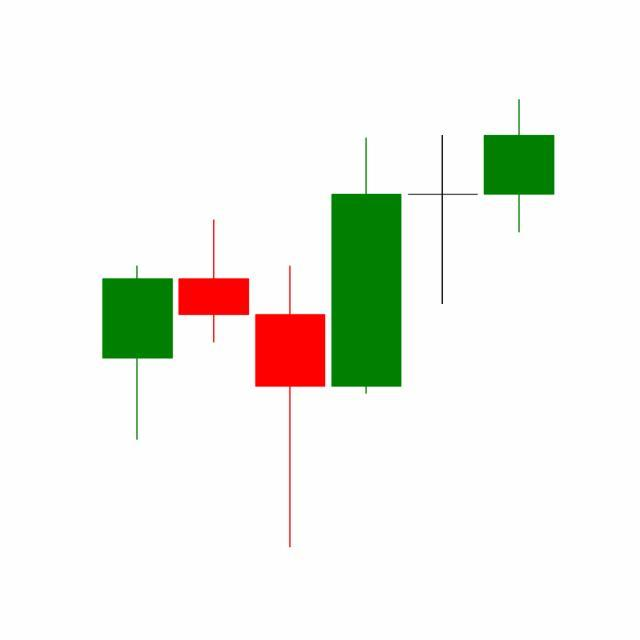Spinning Top: (404, 134, 482, 308)
